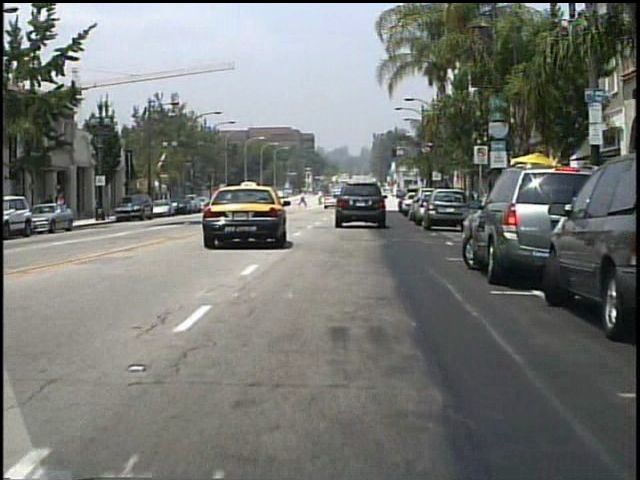person: (44, 192, 59, 225), (58, 193, 69, 223), (317, 189, 325, 208), (300, 191, 307, 209)
